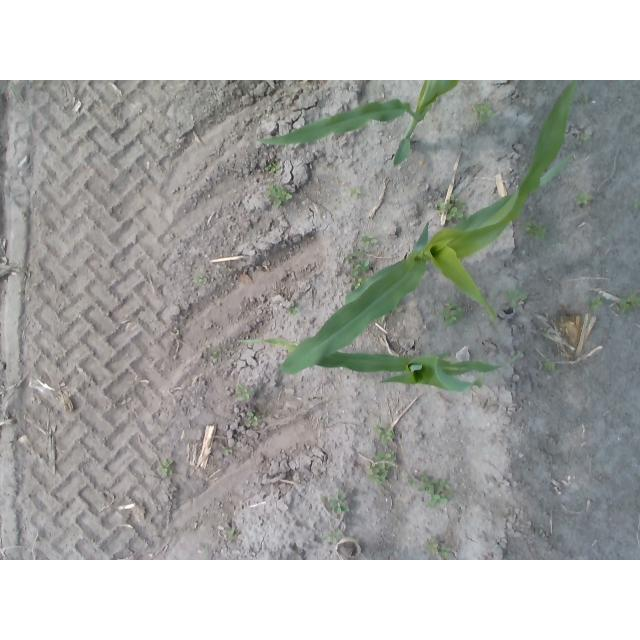Maize: (277, 81, 575, 375), (251, 80, 459, 166), (238, 337, 518, 392)
Weeds: (409, 473, 451, 508), (371, 451, 398, 486), (442, 195, 467, 221), (424, 538, 451, 559), (444, 302, 464, 324), (328, 492, 348, 513), (617, 294, 639, 313), (475, 99, 494, 121), (272, 189, 292, 208), (350, 258, 370, 276), (526, 222, 546, 238), (237, 384, 254, 401), (378, 426, 395, 443), (576, 191, 592, 206), (162, 456, 174, 476), (245, 411, 259, 427), (586, 295, 602, 309), (508, 292, 525, 305), (323, 530, 341, 542), (359, 234, 377, 243), (201, 545, 211, 560), (544, 360, 557, 371), (213, 349, 224, 359), (436, 198, 446, 209), (351, 188, 362, 198), (221, 445, 231, 455), (353, 276, 363, 286), (226, 530, 236, 539), (265, 163, 275, 172), (290, 306, 299, 315), (343, 255, 353, 263), (580, 133, 591, 140), (634, 197, 640, 207), (196, 275, 204, 282), (584, 95, 588, 101)
